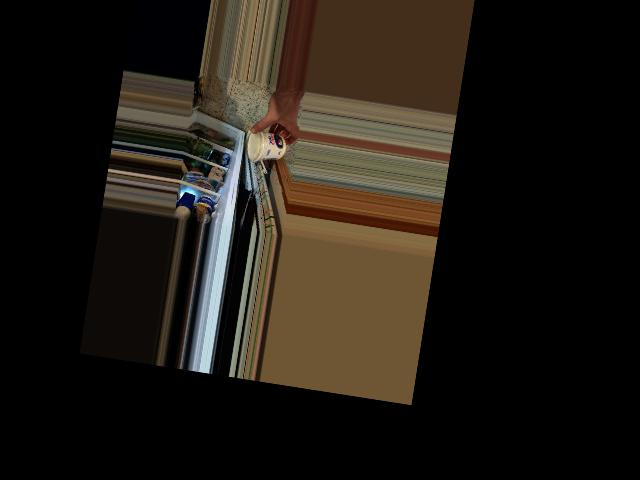cotage: (243, 129, 287, 164)
